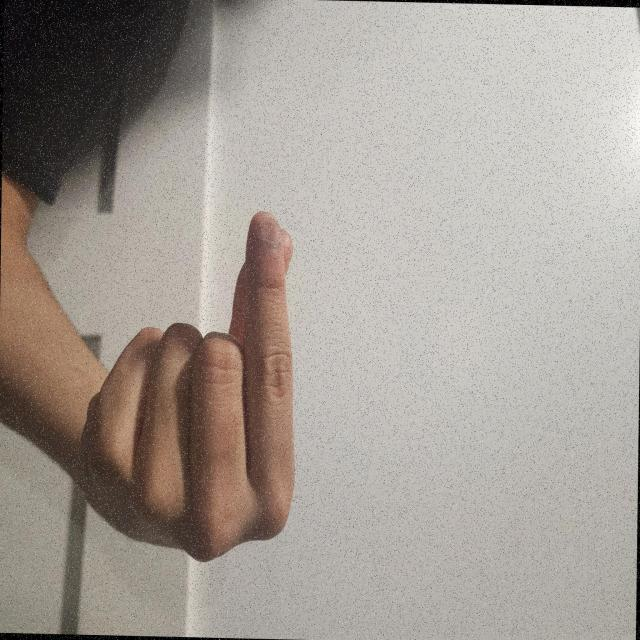G: (253, 353, 630, 640)
